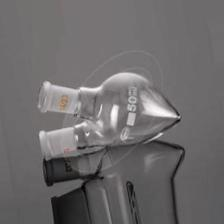Pear shaped flask: (24, 71, 189, 157)
